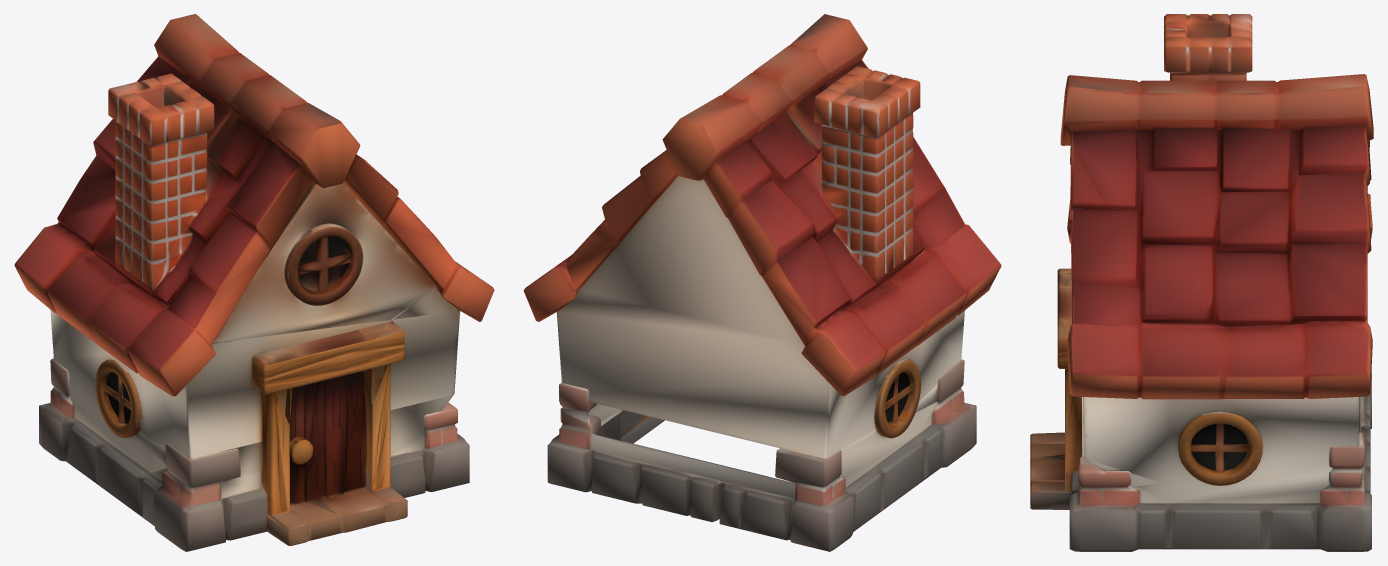
The model's file is lodge.glb.
3 renders of one model, left to right at view 1: azimuth 30°, elevation 25°; view 2: azimuth 150°, elevation 25°; view 3: azimuth 270°, elevation 25°, orthographic.
Parts seen in each view (by area): view 1: material; view 2: material; view 3: material.
Boxes of the visible parts, x1=… form: material: x1=14, y1=14, x2=494, y2=551; material: x1=523, y1=14, x2=1001, y2=551; material: x1=1030, y1=14, x2=1373, y2=551.
Size of the model in its own units: 1.68 by 1.9 by 1.47.
1 material, 1 textured.
